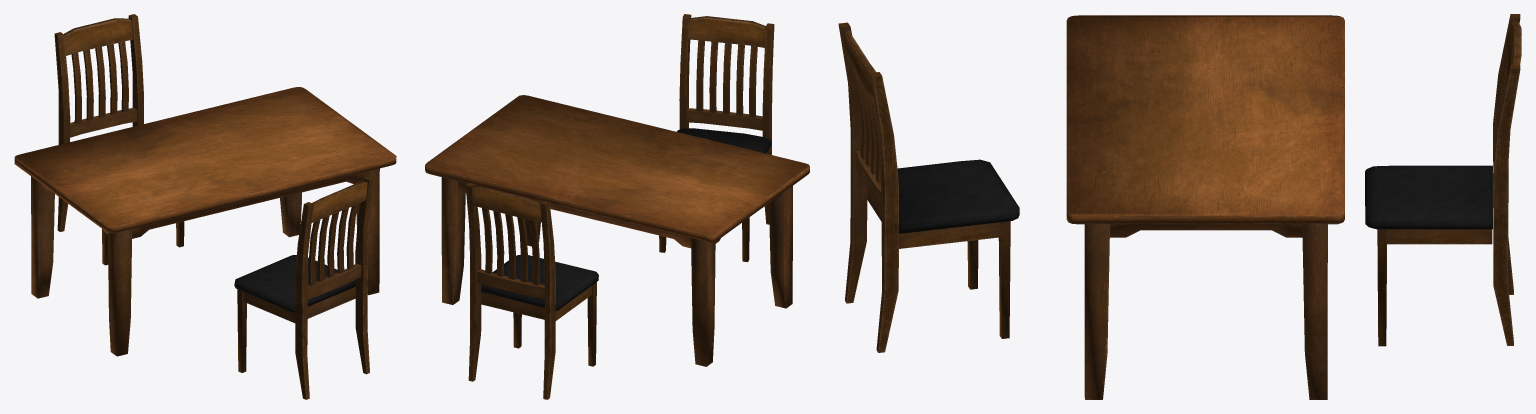
File: MesaConSillas_optim.obj
3 views of the same model, side by side, from view 1: azimuth 30°, elevation 25°; view 2: azimuth 150°, elevation 25°; view 3: azimuth 270°, elevation 25° (orthographic). The views are drawn at different scales.
Visible parts, largest first — view 1: old_table; view 2: old_table; view 3: old_table.
Part boxes in pixels (x1,y1,x2,y2): old_table: (14, 14, 396, 399); old_table: (425, 14, 809, 399); old_table: (838, 14, 1521, 399).
Bounding box in the file's own units: 156 × 101 × 225.
